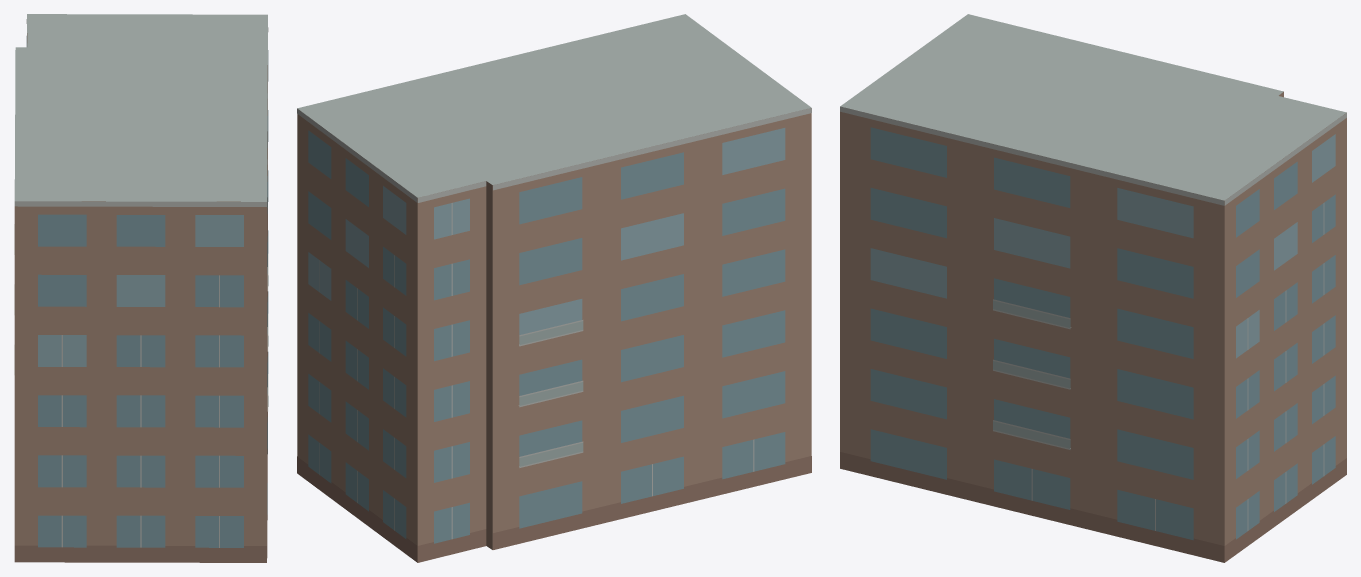
The model's file is survey-upis-32978055.glb.
The picture shows the model from 3 angles, left to right: view 1: azimuth 30°, elevation 25°; view 2: azimuth 150°, elevation 25°; view 3: azimuth 270°, elevation 25°; orthographic projection.
Parts seen in each view (by area): view 1: survey-upis-32978055.tmp; view 2: survey-upis-32978055.tmp; view 3: survey-upis-32978055.tmp.
Boxes of the visible parts, x1,y1,x2,y2 form: survey-upis-32978055.tmp: [14, 14, 268, 562]; survey-upis-32978055.tmp: [297, 14, 811, 562]; survey-upis-32978055.tmp: [840, 14, 1346, 562].
Bounding box in the file's own units: 18.57 × 16.8 × 21.31.
